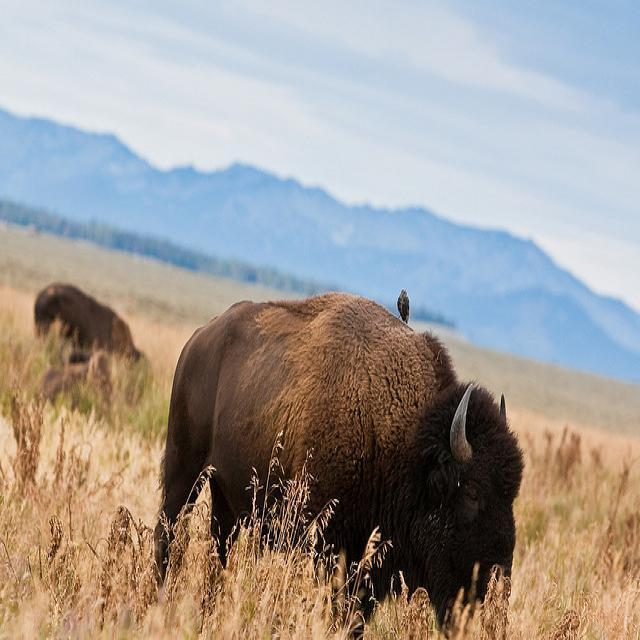cow: (153, 294, 523, 612), (30, 280, 150, 373)
